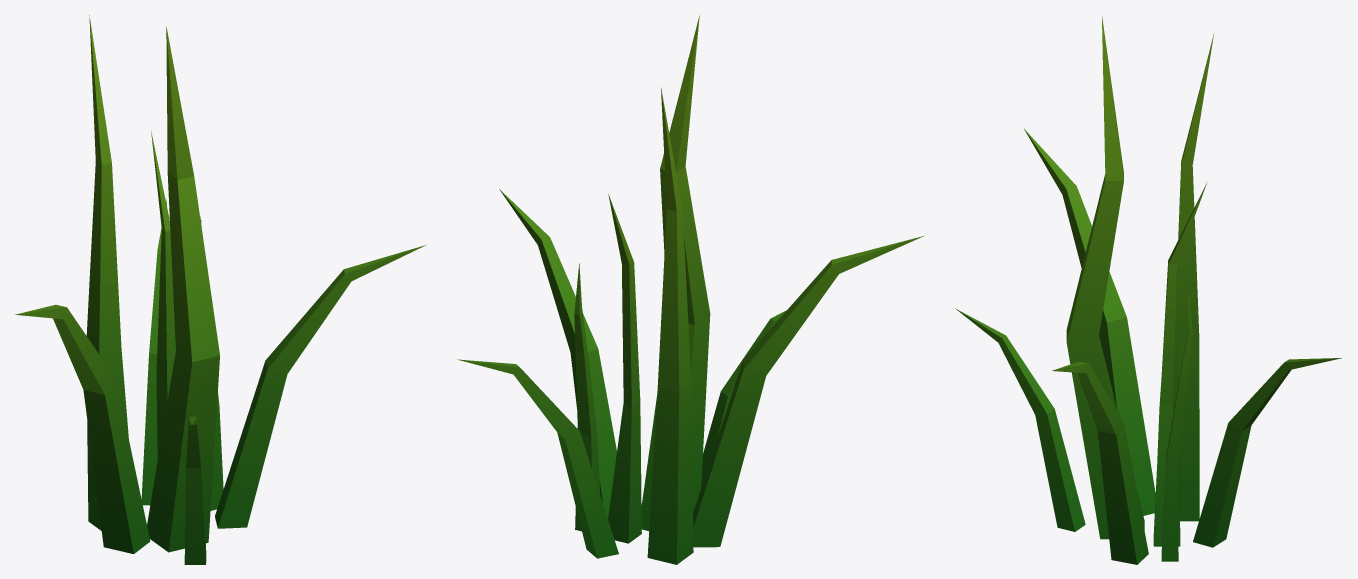
The model's file is Grass_01.fbx.
3 views of the same model, side by side, from view 1: azimuth 30°, elevation 25°; view 2: azimuth 150°, elevation 25°; view 3: azimuth 270°, elevation 25° (orthographic). The views are drawn at different scales.
Visible parts, largest first — view 1: Grass_01; view 2: Grass_01; view 3: Grass_01.
Part boxes in pixels (bbox=[...]): Grass_01: bbox=[15, 15, 425, 564]; Grass_01: bbox=[458, 15, 924, 564]; Grass_01: bbox=[955, 16, 1341, 564].
Bounding box in the file's own units: 67.81 × 79.81 × 55.65.
